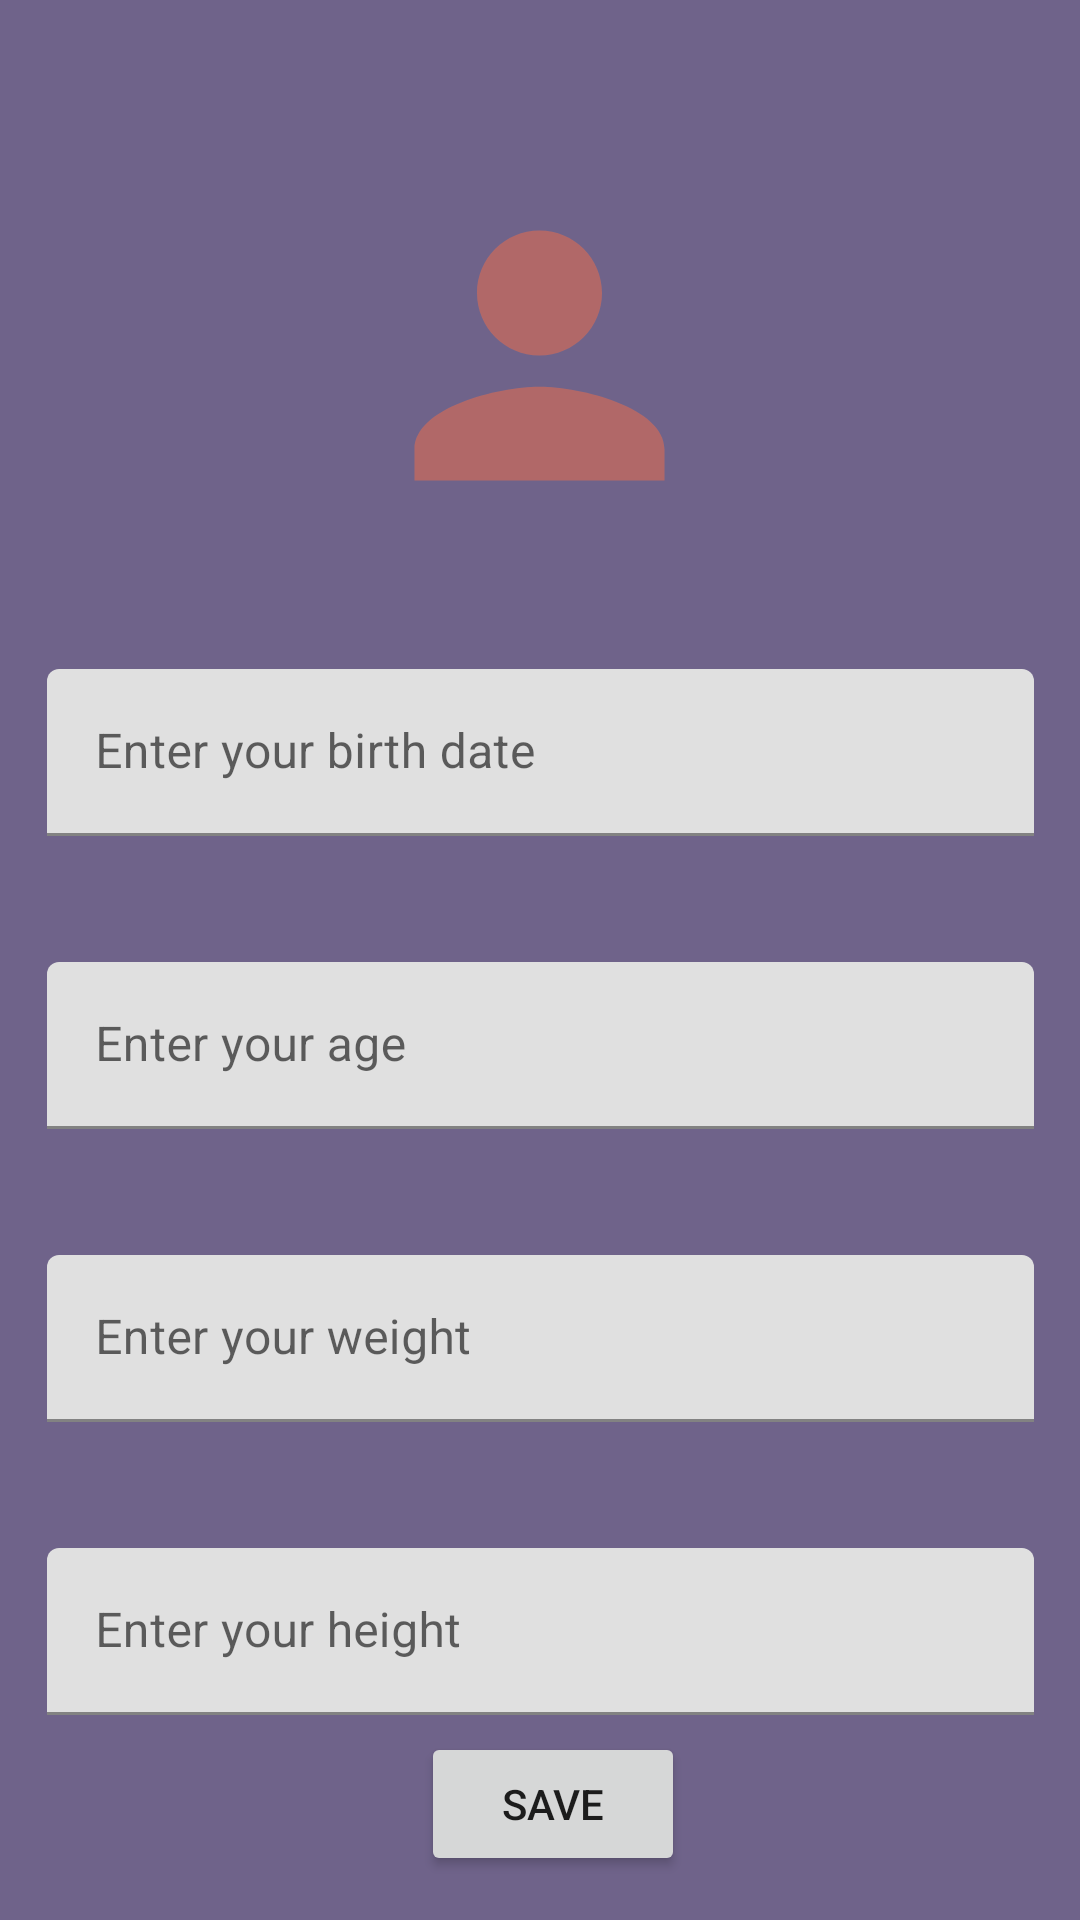

Icons on this 1080*1920 Android screen, each with the point to tap as (x,y):
person: (539,355)
